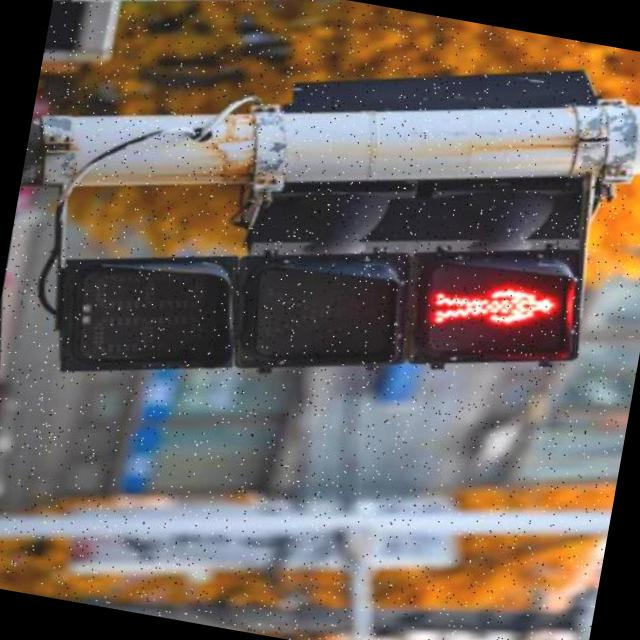red_light: (421, 254, 572, 350)
